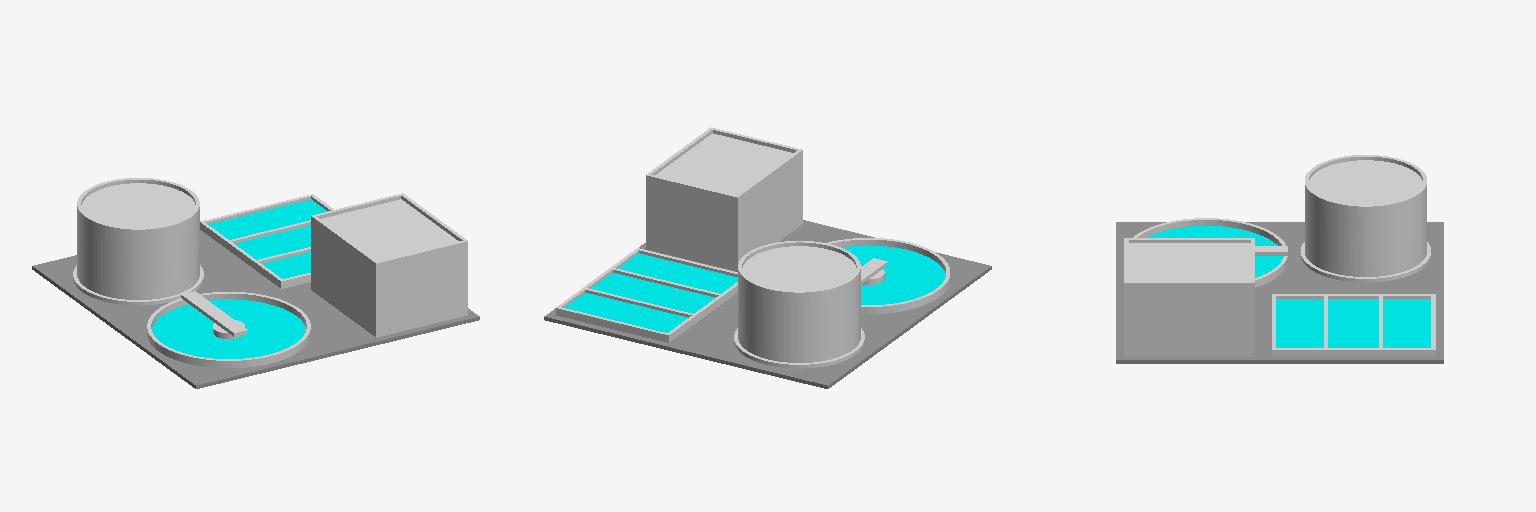
File: WaterTreatment.obj
3 views of the same model, side by side, from view 1: azimuth 30°, elevation 25°; view 2: azimuth 150°, elevation 25°; view 3: azimuth 270°, elevation 25° (orthographic).
Bounding box in the file's own units: 20 × 5.25 × 20.